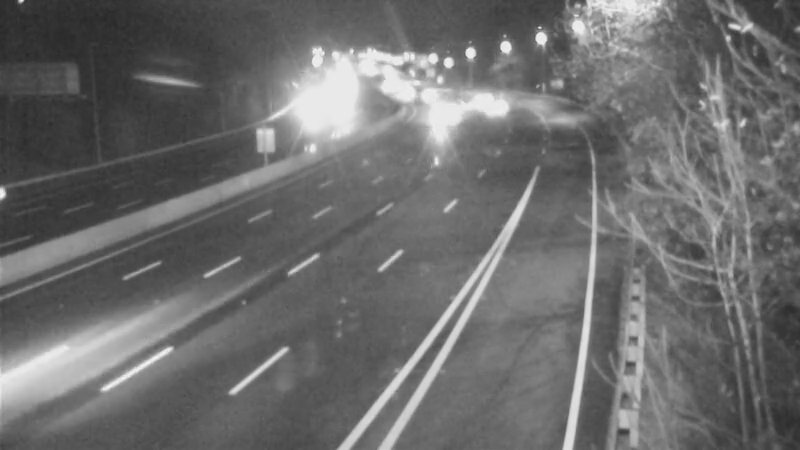vehicle: (383, 73, 433, 123), (433, 83, 483, 133), (455, 69, 505, 119), (465, 82, 515, 132), (432, 88, 482, 138)
